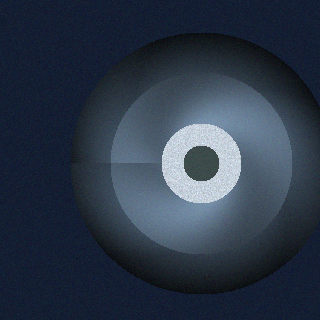cyclone_body: (105, 67, 297, 259)
cyclone_eye: (181, 143, 221, 183)
